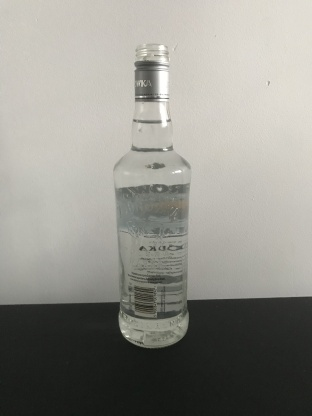nakretka: (132, 41, 171, 102)
